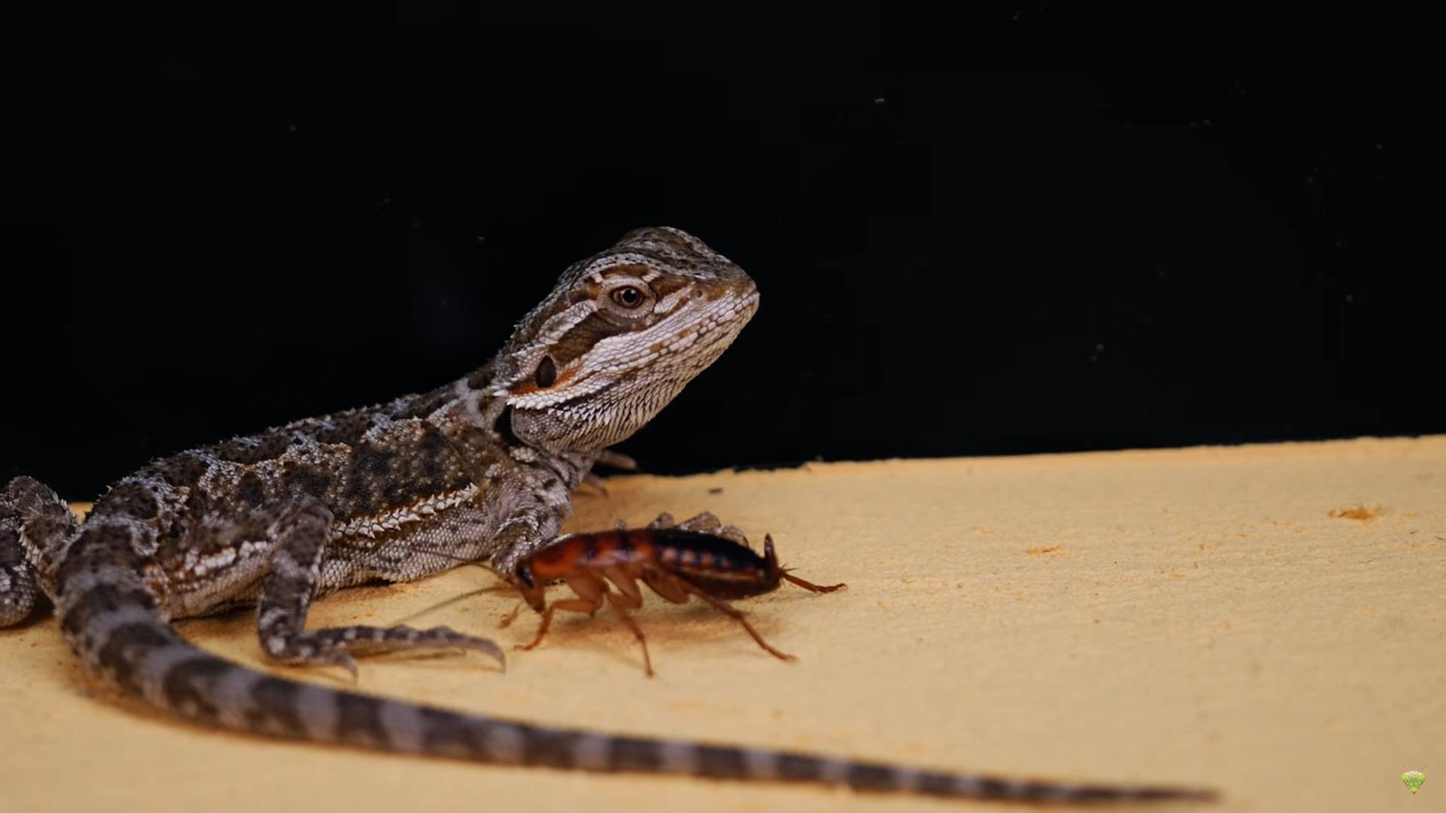cockroach: (478, 526, 842, 670)
lizard: (20, 218, 933, 795)
